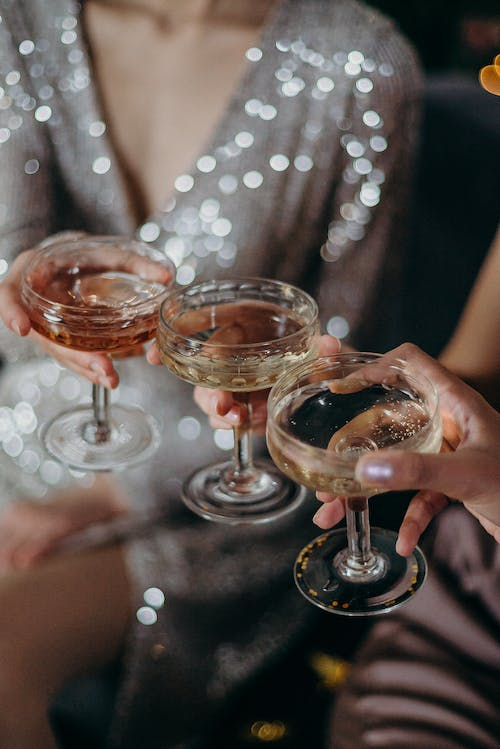alcohol: (265, 349, 443, 617), (156, 277, 321, 525), (19, 233, 178, 473)
